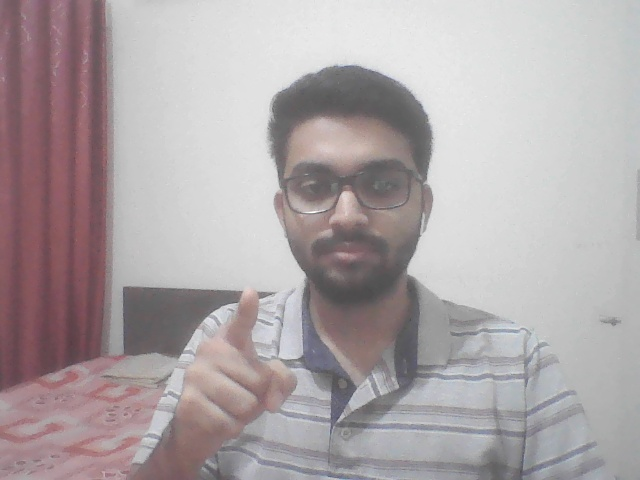you: (166, 269, 309, 463)
